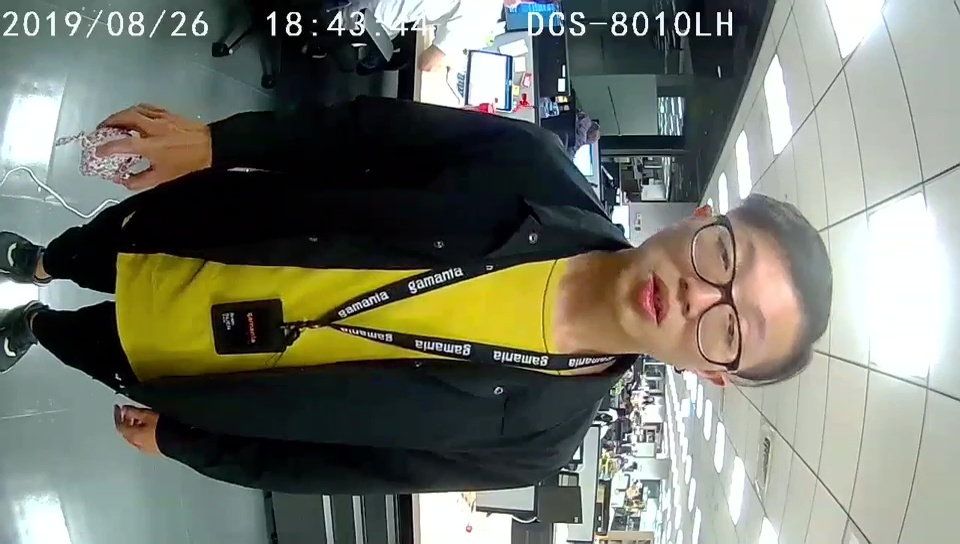pig: (80, 125, 143, 179)
